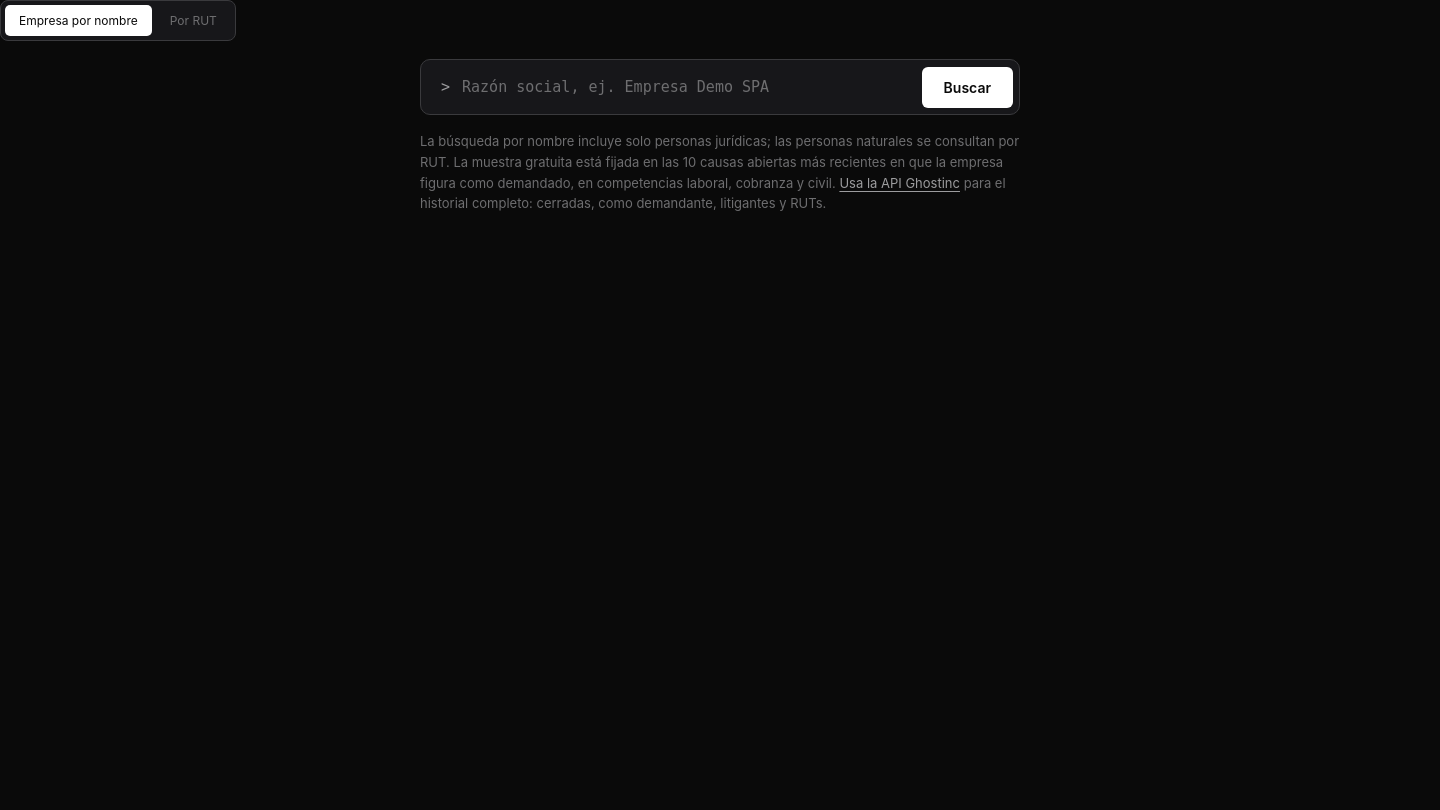
SearchForm › muestra estado vacío como resultado, no como error
In the search field: {"x": 686, "y": 87} [462,66,910,108], type "Empresa Sin Causas"
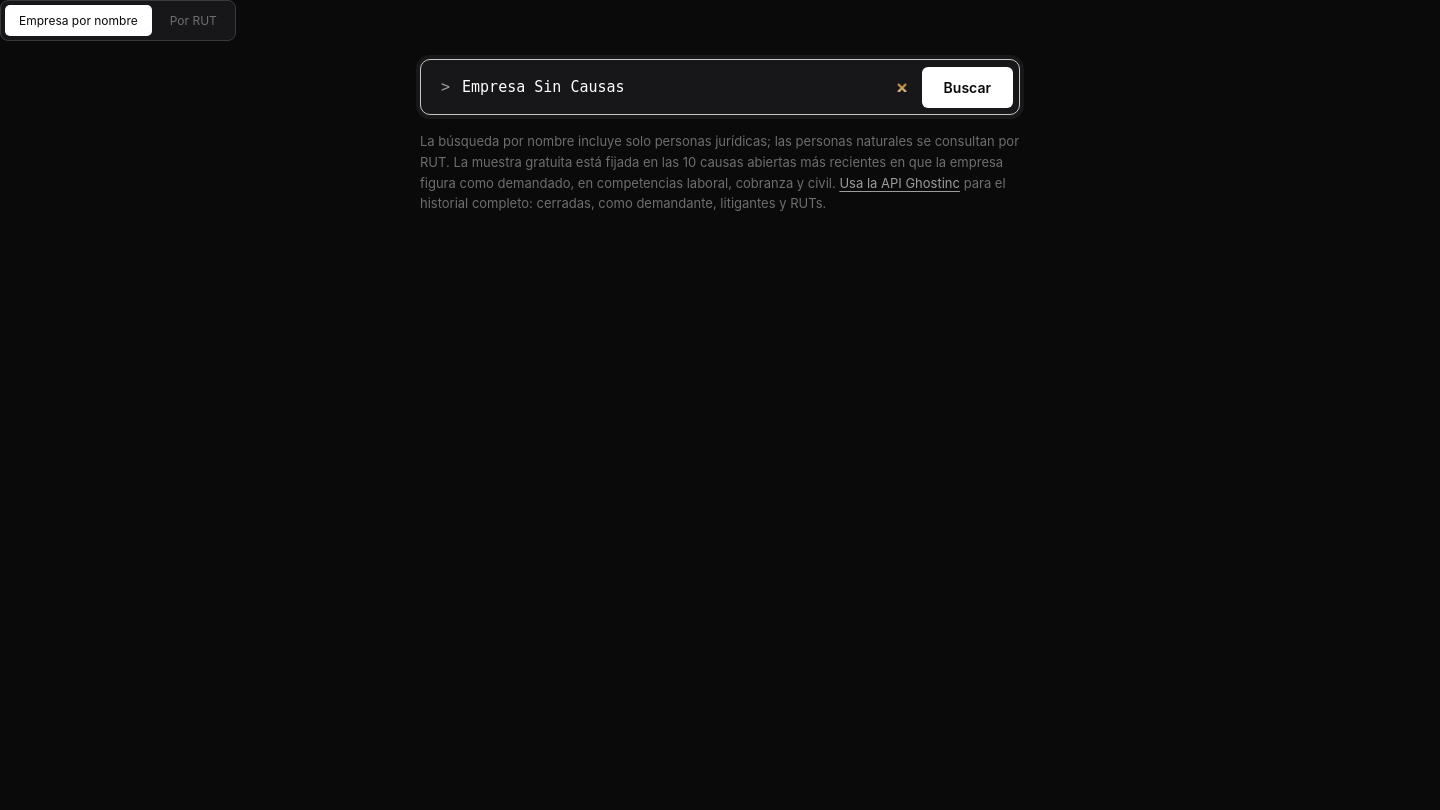
Click the button "Buscar": {"x": 967, "y": 87} [922,66,1013,108]
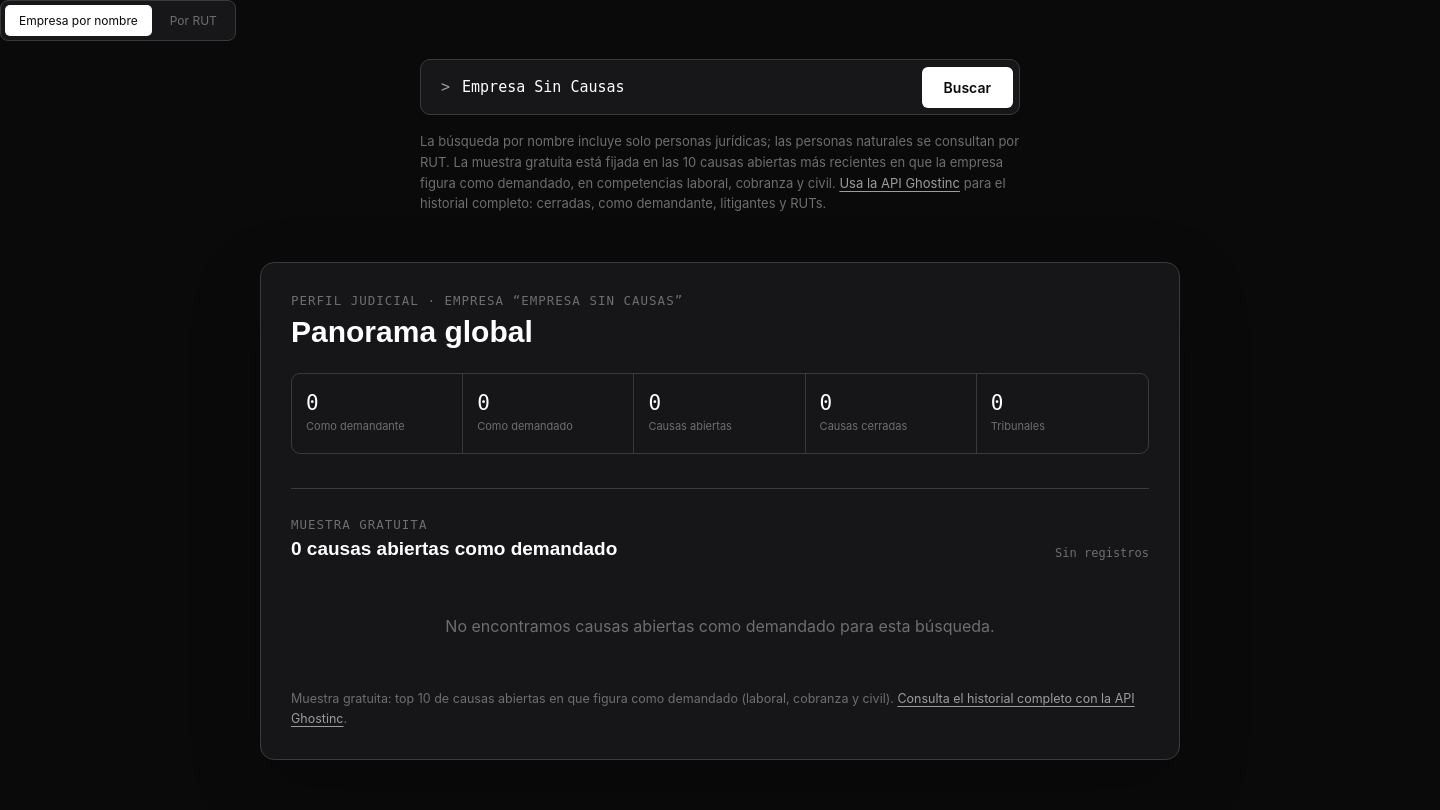
Result: the text "No encontramos causas abiertas" is shown at [445,616,995,636]
